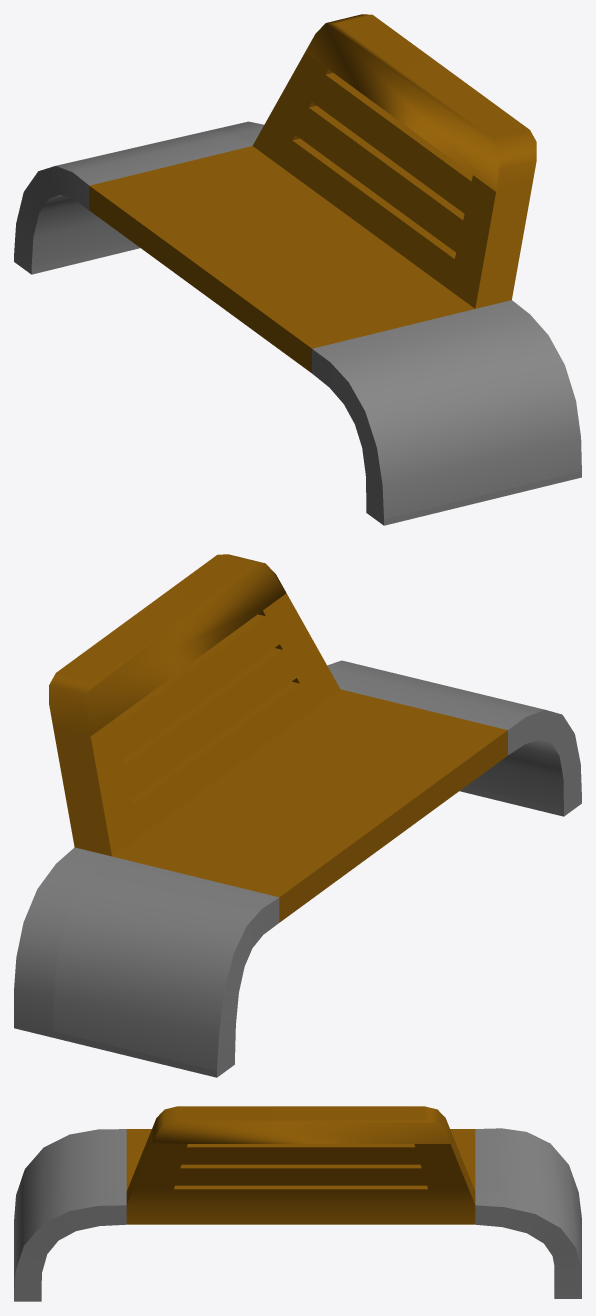
Rendered from Bench.fbx.
The picture shows the model from 3 angles, top to bottom: view 1: azimuth 30°, elevation 25°; view 2: azimuth 150°, elevation 25°; view 3: azimuth 270°, elevation 25°; orthographic projection. The views are drawn at different scales.
Visible parts, largest first — view 1: BenchV2; view 2: BenchV2; view 3: BenchV2.
Part boxes in pixels (box(x1,y1,x2,y2)): BenchV2: box(14, 14, 581, 525); BenchV2: box(14, 554, 581, 1077); BenchV2: box(14, 1106, 581, 1301).
Bounding box in the file's own units: 3.81 × 3.64 × 9.28.
